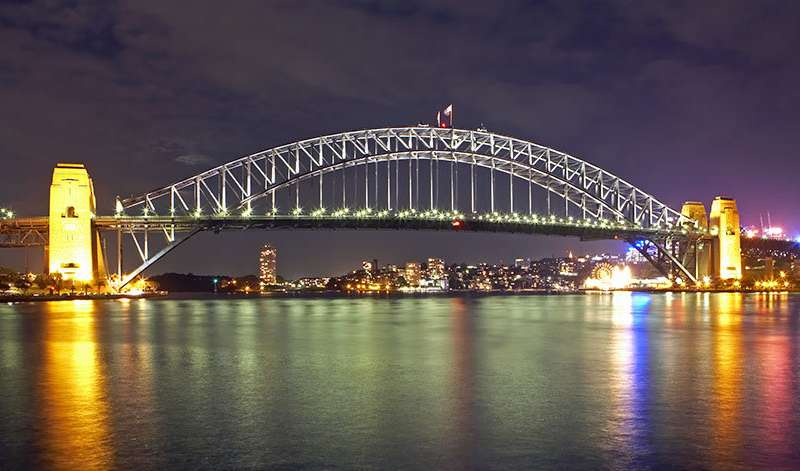bridge: (4, 118, 800, 263)
